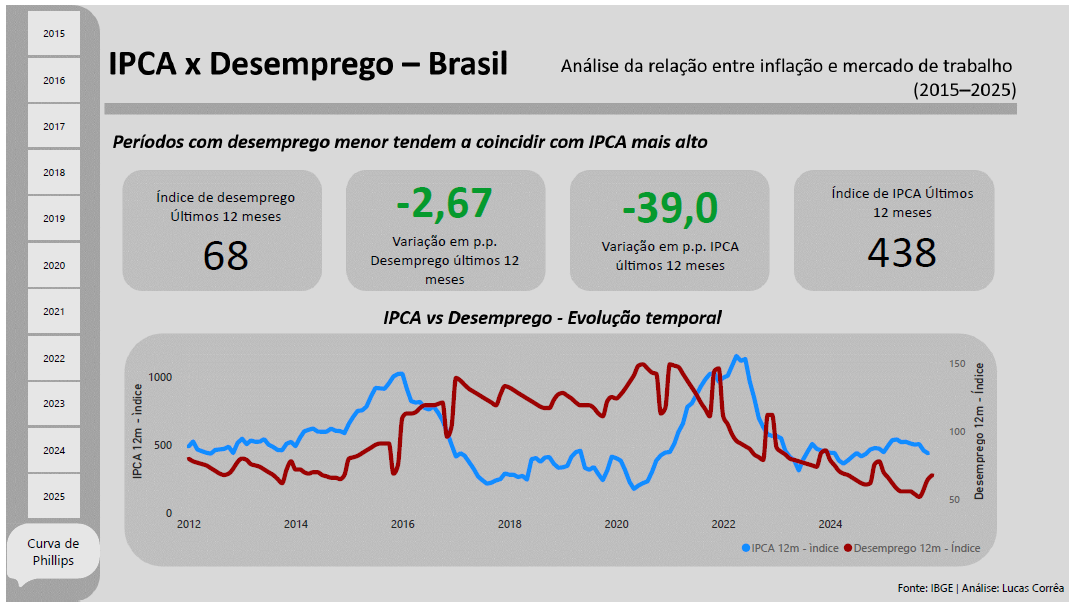

The page's visual inventory and layout, read from the dashboard file:
{"tool":"powerbi","page":{"name":"1. Visão Geral – IPCA x Desemprego","canvas":[1280,720],"ordinal":0},"visuals":[{"type":"lineChart","title":"IPCA vs Desemprego - Evolução temporal","fields":{"Category":["dCalendário.Data"],"Y2":["fDesemprego_brasil.Desemprego 12m (%)"],"Y":["fIpca_brasil.IPCA 12m"]},"box":[144,400,1040,272],"z":0},{"type":"cardVisual","fields":{"Data":["fDesemprego_brasil.Desemprego 12m Último"]},"box":[128.2,188.1,272,176],"z":1000},{"type":"cardVisual","fields":{"Data":["fIpca_brasil.IPCA 12m Último"]},"box":[944,192,272,160],"z":2000},{"type":"cardVisual","fields":{"Data":["fIpca_brasil.Variação IPCA 12m (Δ12m)"]},"box":[656,176,288,176],"z":3000},{"type":"cardVisual","fields":{"Data":["fDesemprego_brasil.Variação Desemprego 12m (Δ12m)"]},"box":[384.2,193.4,288,176],"z":4000},{"type":"textbox","box":[1056,688,224,32],"z":5000},{"type":"slicer","fields":{"Values":["dCalendário.Ano"]},"box":[0,0,112,624],"z":6000},{"type":"shape","title":"Curva de Phillips","box":[0,624,112,80],"z":7000}]}

Visuals, with their boxes on the page's 1280x720 design canvas (x1, y1, x2, y2). These are canvas units, not pixel positions in the 1074x608 screenshot, which may show the page scaled, cropped or inside an application window:
"IPCA vs Desemprego - Evolução temporal" lineChart: <box>144,400,1184,672</box>
cardVisual - fDesemprego_brasil.Desemprego 12m Último: <box>128,188,400,364</box>
cardVisual - fIpca_brasil.IPCA 12m Último: <box>944,192,1216,352</box>
cardVisual - fIpca_brasil.Variação IPCA 12m (Δ12m): <box>656,176,944,352</box>
cardVisual - fDesemprego_brasil.Variação Desemprego 12m (Δ12m): <box>384,193,672,369</box>
textbox: <box>1056,688,1280,720</box>
slicer - dCalendário.Ano: <box>0,0,112,624</box>
"Curva de Phillips" shape: <box>0,624,112,704</box>
